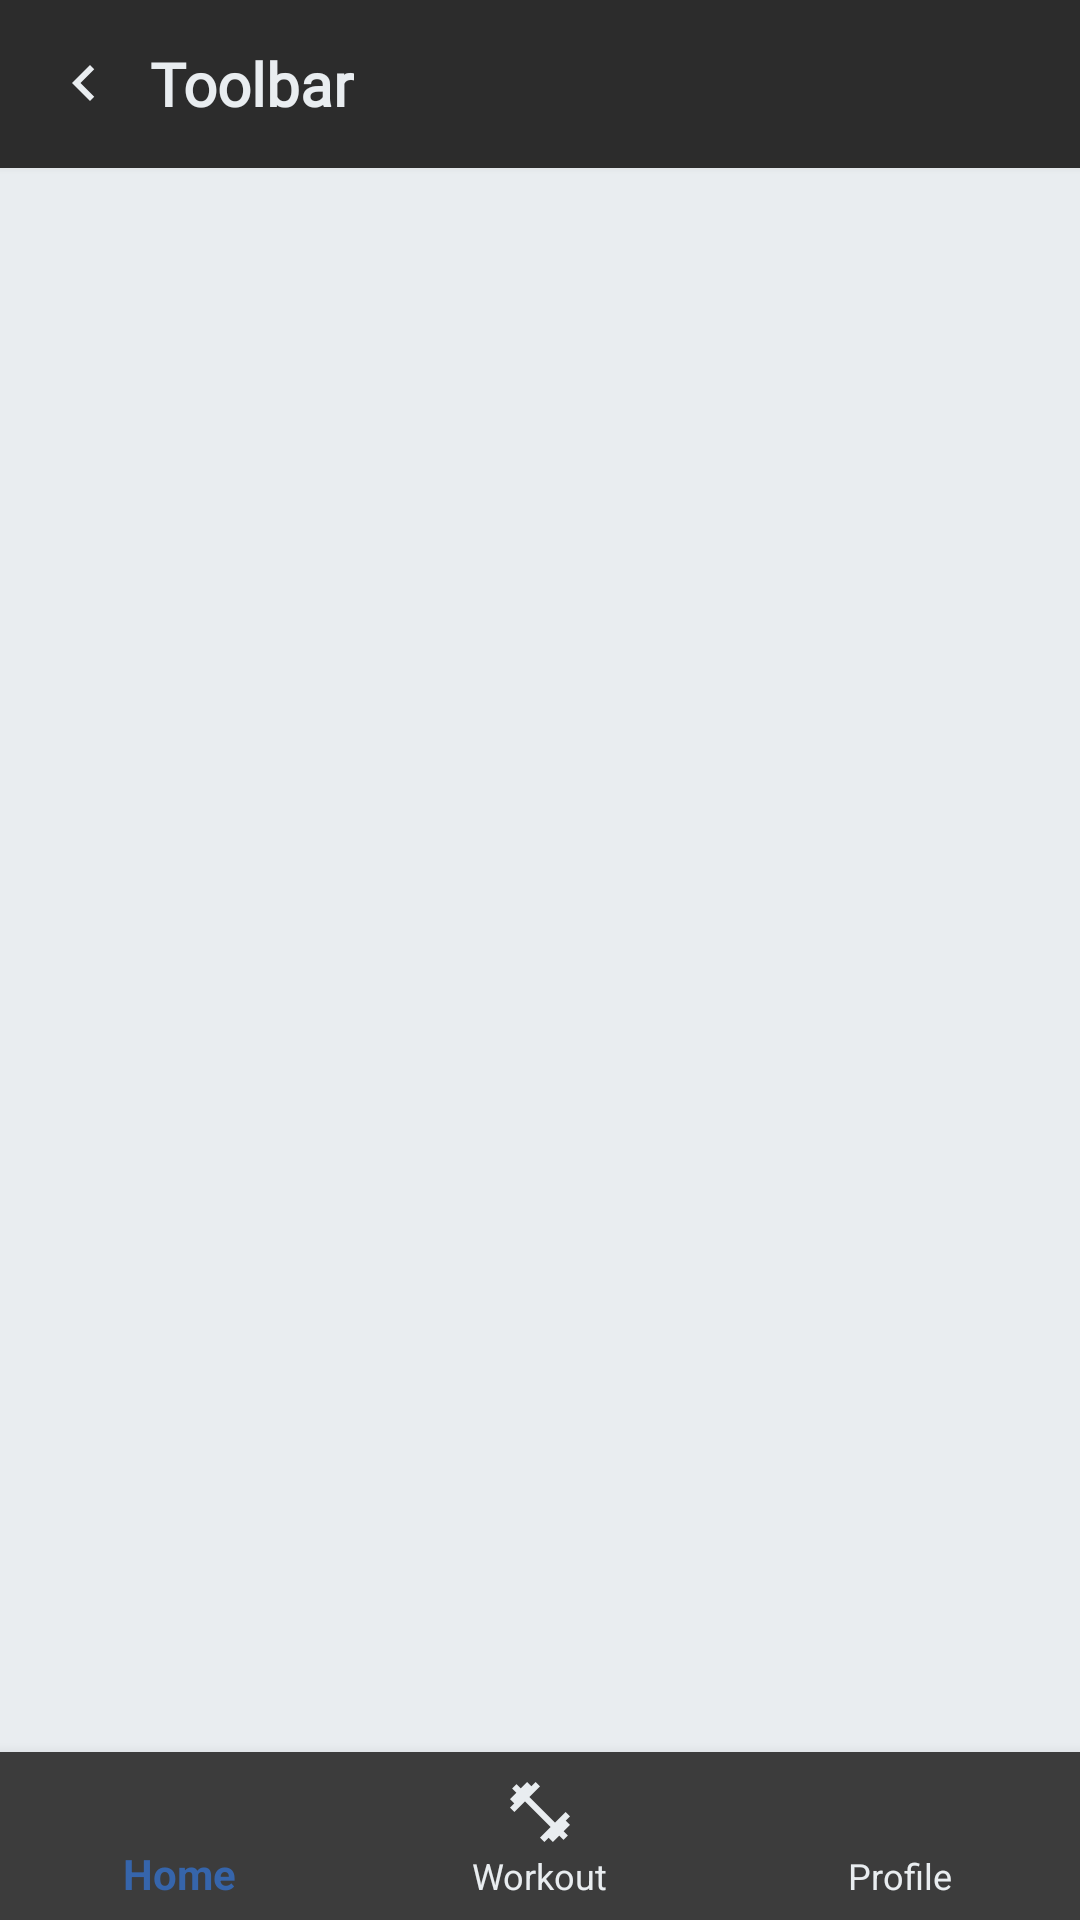

Icons on this 1080*1920 Android screen, each with the point to tap as point (x, y):
chevron left: point (83, 83)
